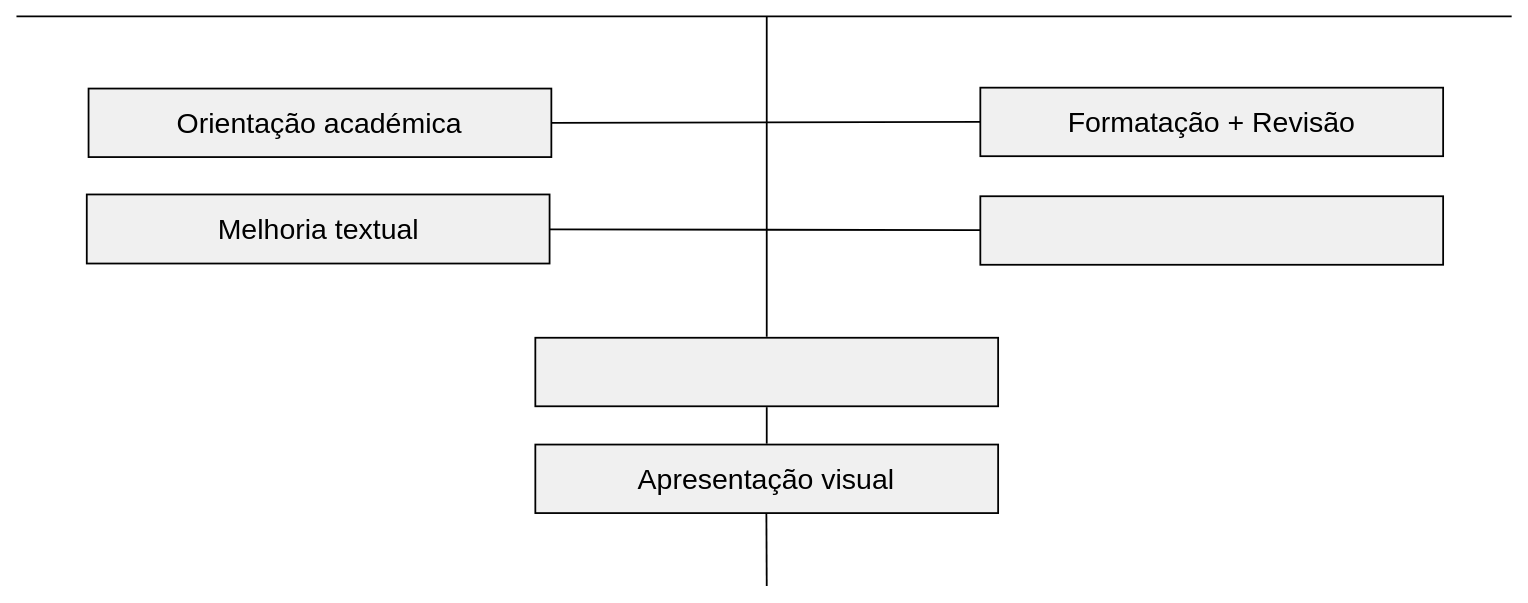
This 1528x603 diagram has some shape labels left out. The centre of each missing label's shape, as x and y in pixels:
"Questionário de pesquisa" goes at point (766, 371).
"Tradução" goes at point (1211, 230).
